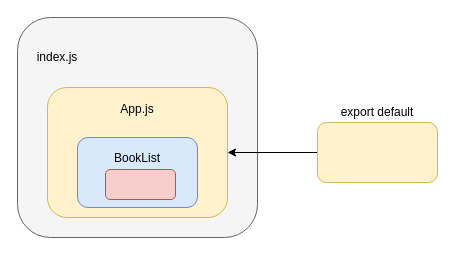
Some shapes in this 455 by 255 pixel diagram are drawn without their labels. Each missing label, with the centre of its shape:
"Book" goes at [140,184].
"data.js" goes at [377,152].
